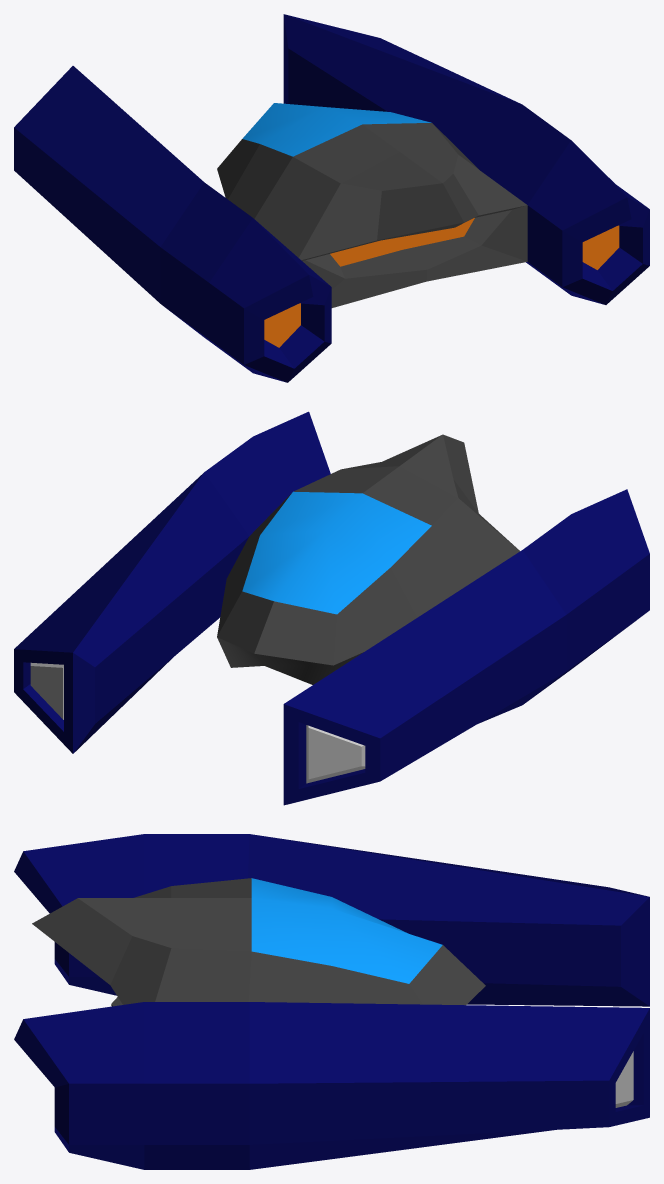
Rendered from Prototype_Ship_2.obj.
3 views of the same model, one above another, from view 1: azimuth 30°, elevation 25°; view 2: azimuth 150°, elevation 25°; view 3: azimuth 270°, elevation 25° (orthographic). The views are drawn at different scales.
Visible parts, largest first — view 1: Protoship_2; view 2: Protoship_2; view 3: Protoship_2.
Boxes of the visible parts, <box> form: Protoship_2: <box>14,14,649,382</box>; Protoship_2: <box>14,411,649,805</box>; Protoship_2: <box>14,834,649,1169</box>.
Bounding box in the file's own units: 3.18 × 1.3 × 3.99.
